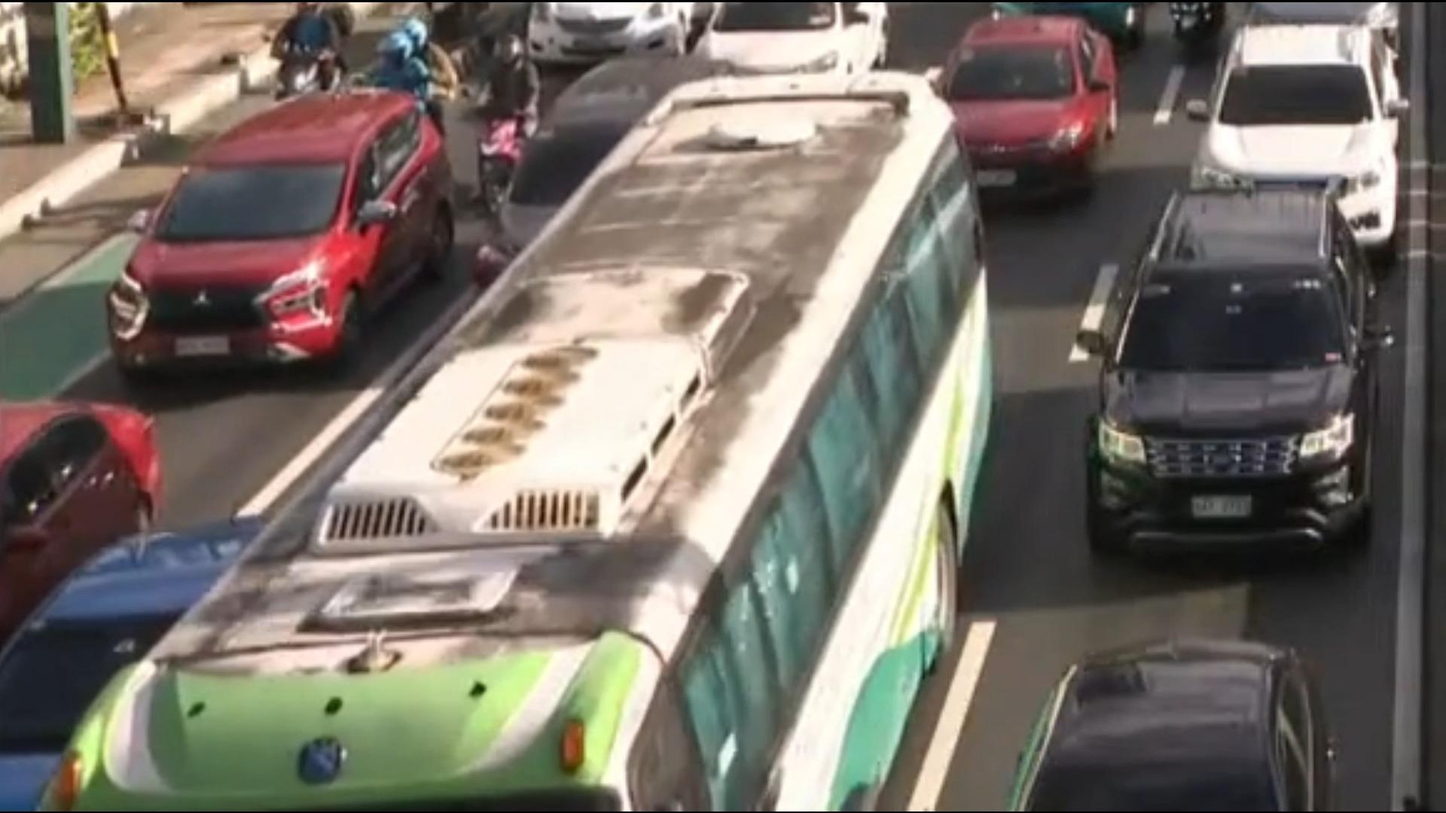Bus: (30, 76, 990, 813)
Motorcycle: (474, 30, 534, 217), (264, 0, 350, 100), (364, 24, 449, 118)
SUV: (1080, 194, 1373, 552), (108, 95, 457, 371), (476, 56, 720, 293), (1190, 23, 1404, 260)
Sedan: (992, 640, 1331, 813), (0, 400, 161, 621), (935, 19, 1101, 205), (691, 0, 888, 79)
